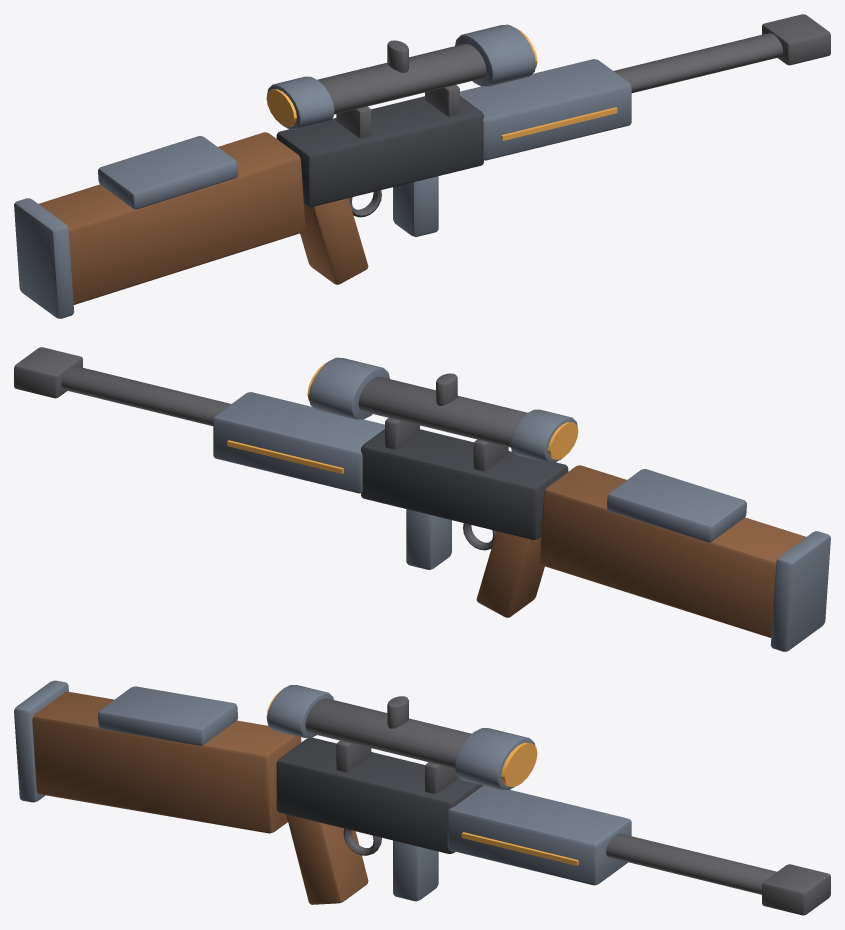
File: SGP_Sniper_Classic.glb
3 views of the same model, one above another, from view 1: azimuth 30°, elevation 25°; view 2: azimuth 150°, elevation 25°; view 3: azimuth 330°, elevation 25° (orthographic).
Visible parts, largest first — view 1: SGP_Sniper_Classic; view 2: SGP_Sniper_Classic; view 3: SGP_Sniper_Classic.
Part boxes in pixels (box(x1,y1,x2,y2)): SGP_Sniper_Classic: box(14, 14, 830, 318); SGP_Sniper_Classic: box(14, 347, 830, 651); SGP_Sniper_Classic: box(14, 680, 830, 915).
Bounding box in the file's own units: 0.8882 × 0.2295 × 0.08.
